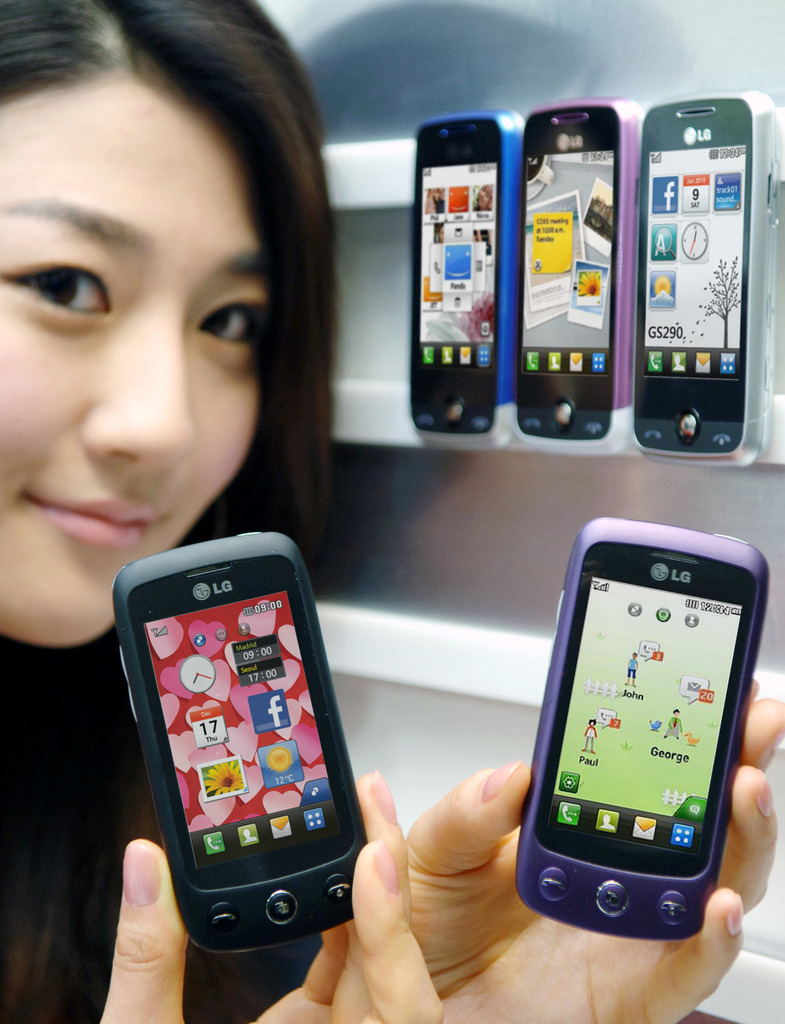Mobile-phone: (116, 528, 392, 961), (514, 515, 765, 943), (628, 90, 775, 471), (505, 95, 642, 450), (409, 106, 521, 449)
